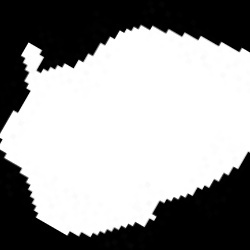spot: (0, 26, 249, 237)
